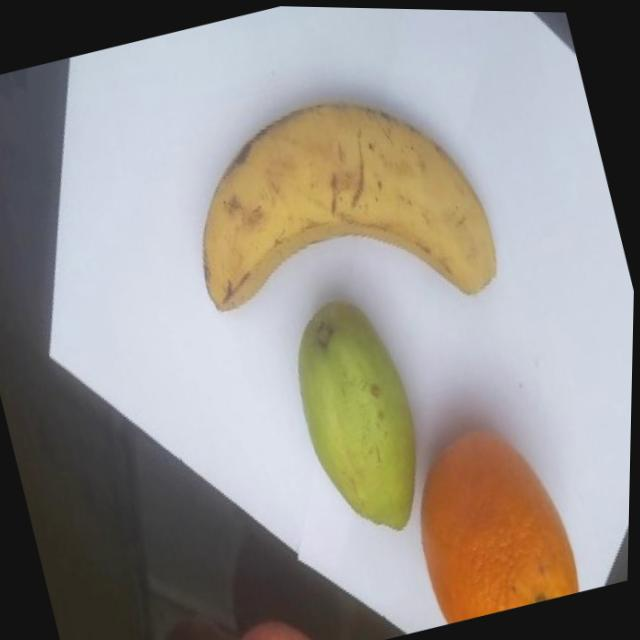Apple: (214, 604, 329, 640)
Banana: (167, 64, 511, 361)
Orange: (397, 409, 589, 626)
